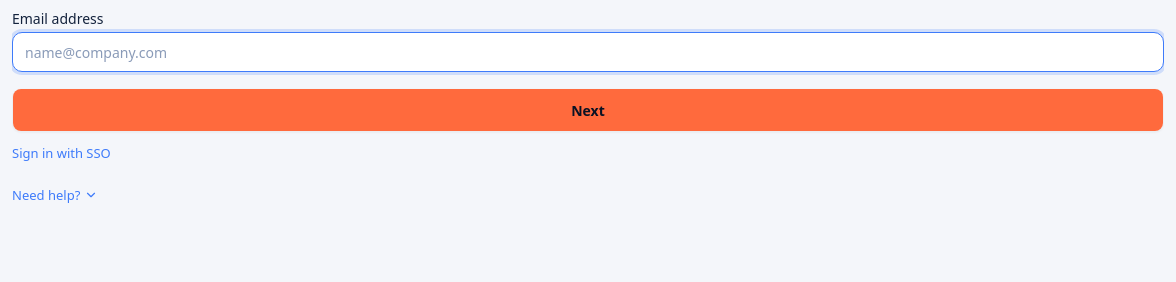
Test: SignInForm › shows clear errors
Type "a@b.co" into the field labelled "Email address" at x=588, y=52, box [12,32,1164,72]
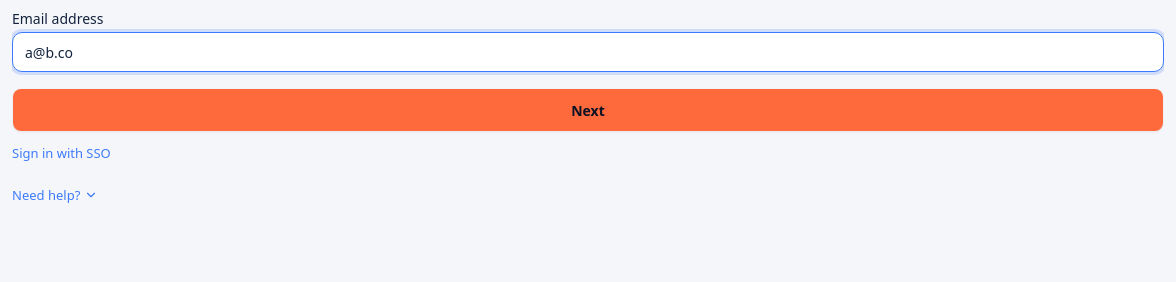
Click the button "Next" at x=588, y=110, box [12,88,1164,132]
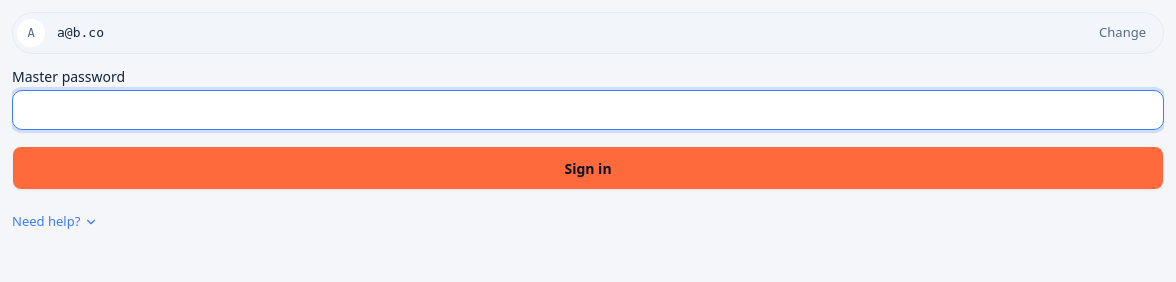
Type "x" into the password field labelled "Master password" at x=588, y=110, box [12,90,1164,130]
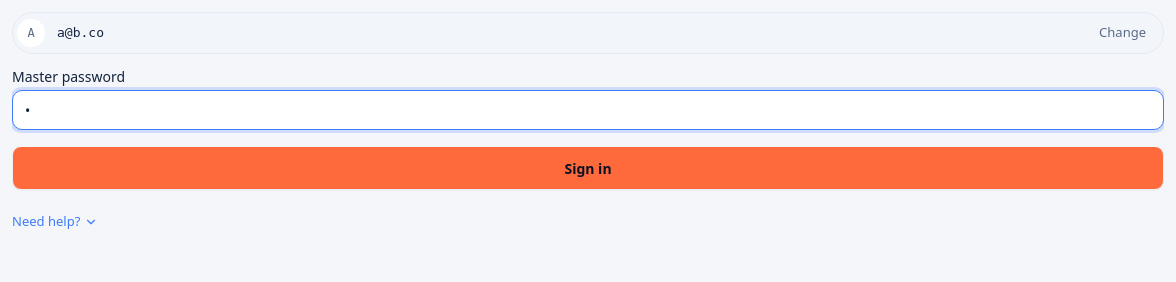
Click the button "Sign in" at x=588, y=168, box [12,146,1164,190]
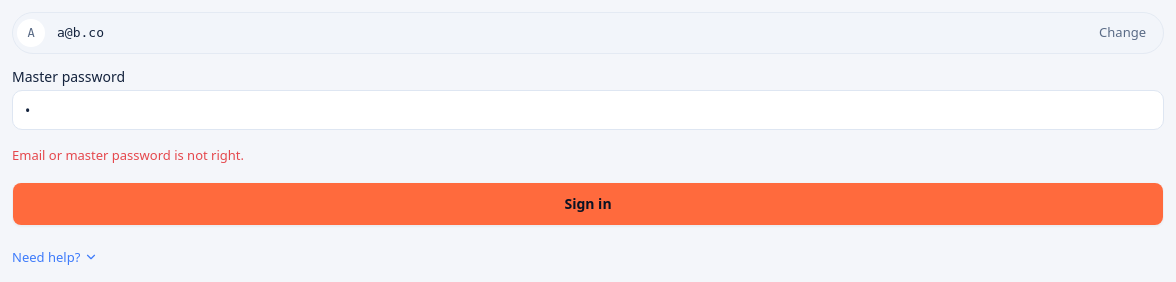
expect the message reads "Email or master password is not right.": met, box [12,146,244,164]
